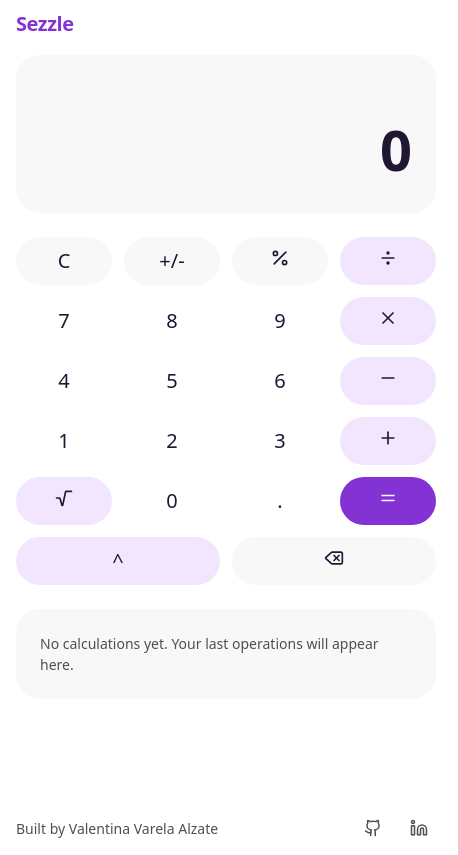
App › clicking a history item reuses its result
Click the button "2" at (172, 441), box x1=124 y1=417 x2=220 y2=465
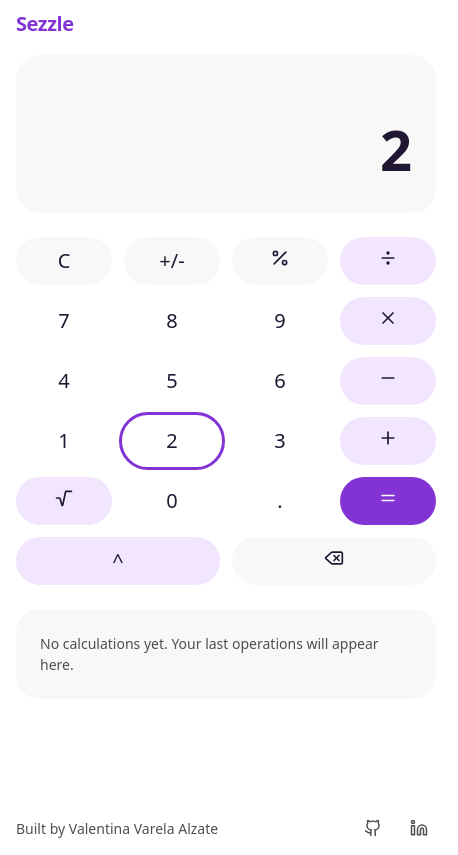
Click the button named "Add" at (388, 441), box x1=340 y1=417 x2=436 y2=465
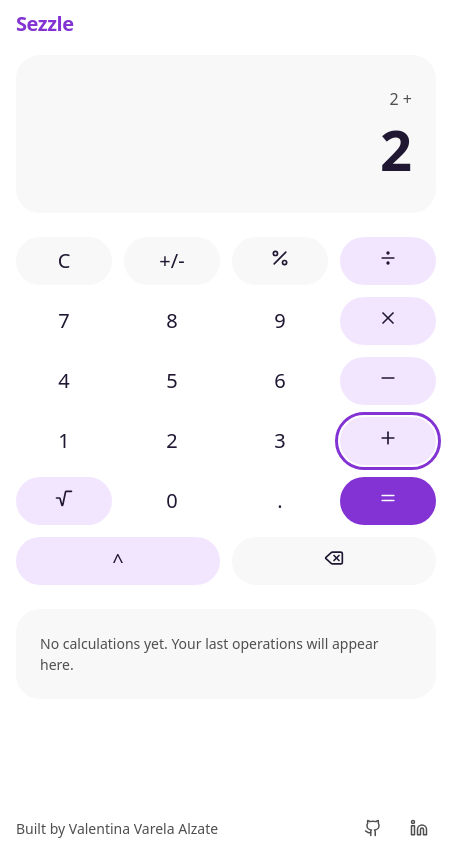
Click the button "3" at (280, 441), box x1=232 y1=417 x2=328 y2=465
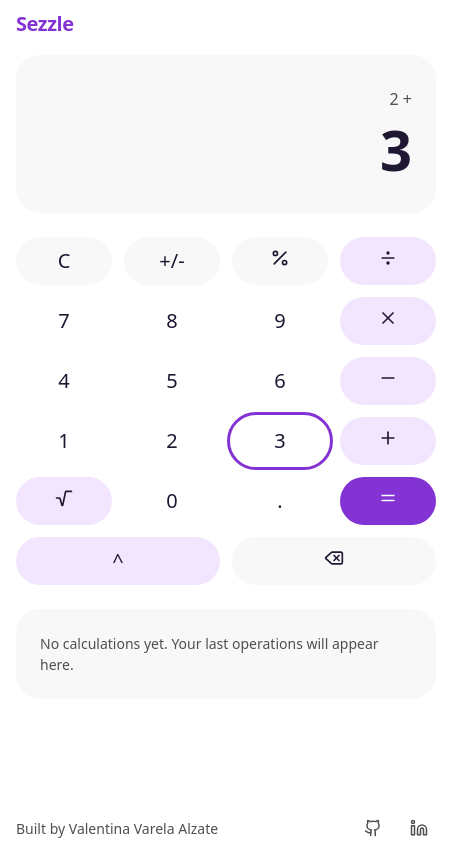
Click the button named "Equals" at (388, 501), box x1=340 y1=477 x2=436 y2=525
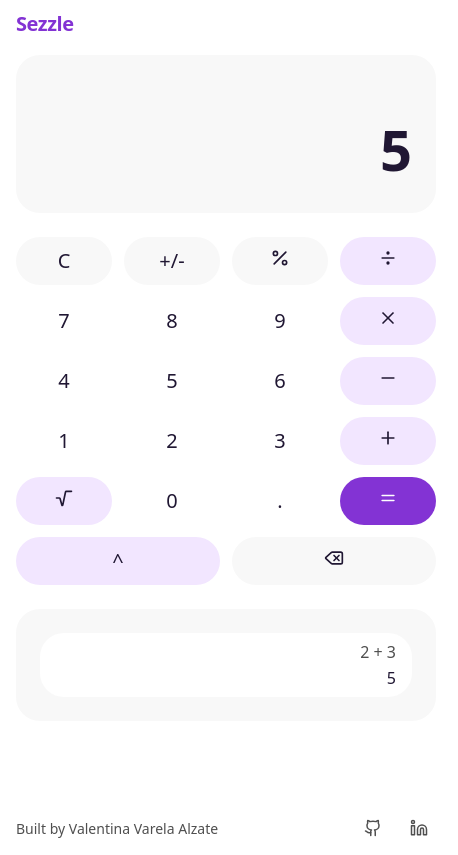
Click the button "9" at (280, 321), box x1=232 y1=297 x2=328 y2=345
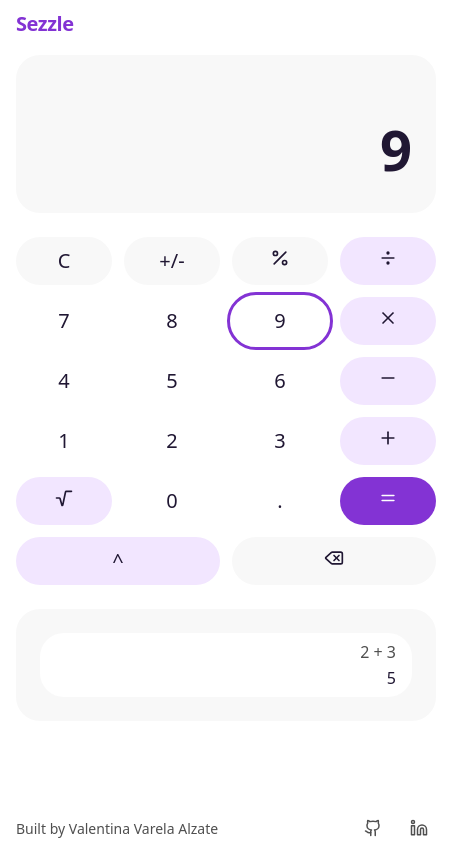
Now the text "9" is shown, box x1=380 y1=111 x2=412 y2=187
Click the button named "2 + 3 5, use result" at (378, 652), box x1=40 y1=633 x2=412 y2=697
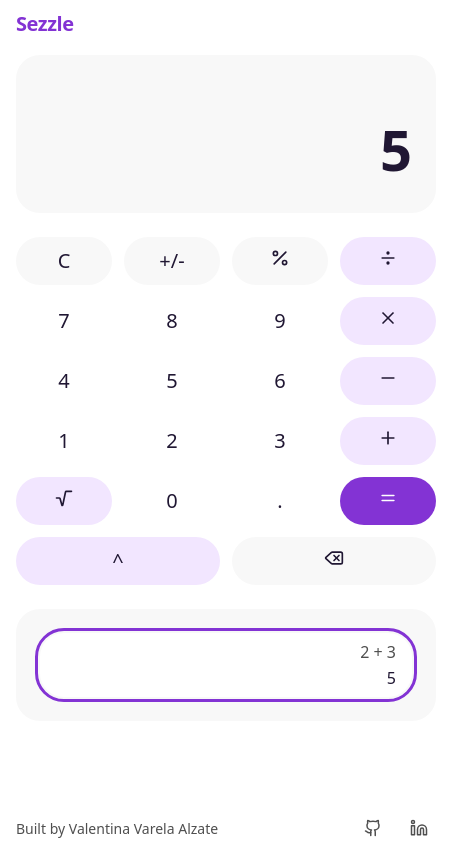
Now the 1st text "5" is shown, box x1=380 y1=111 x2=412 y2=187
